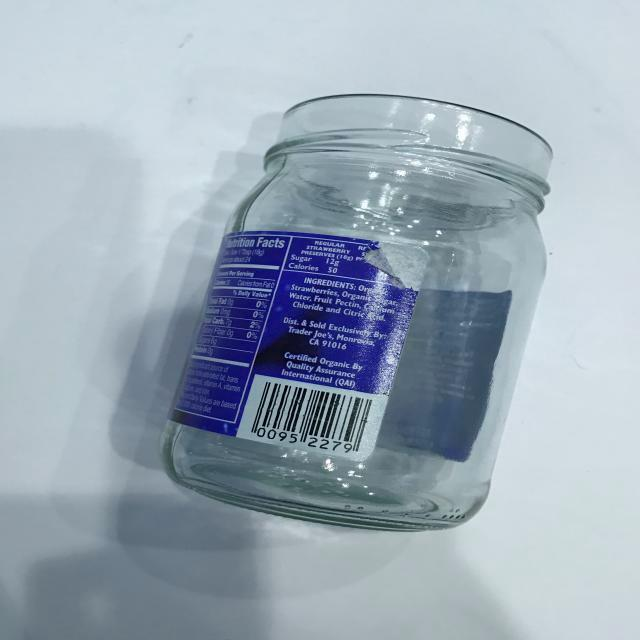glass: (149, 80, 556, 550)
